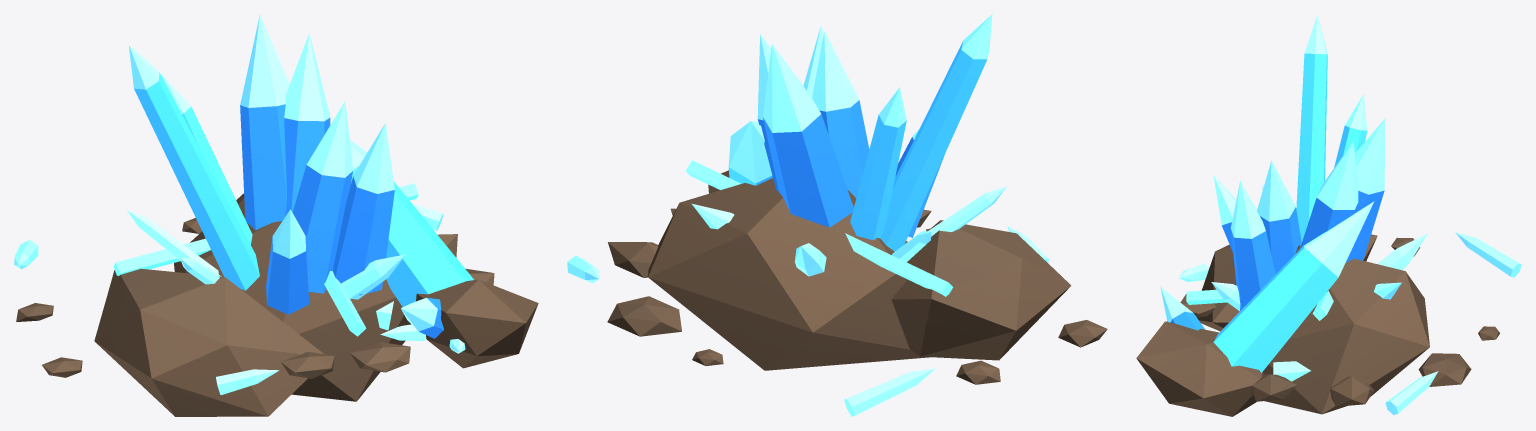
Rendered from minerai_2.glb.
3 views of the same model, side by side, from view 1: azimuth 30°, elevation 25°; view 2: azimuth 150°, elevation 25°; view 3: azimuth 270°, elevation 25° (orthographic). The views are drawn at different scales.
Visible parts, largest first — view 1: minerai_2; view 2: minerai_2; view 3: minerai_2.
Part boxes in pixels (x1,y1,x2,y2): minerai_2: (14,14,538,416); minerai_2: (567,14,1107,416); minerai_2: (1136,14,1521,416).
Bounding box in the file's own units: 1.5 × 1.16 × 1.31.
